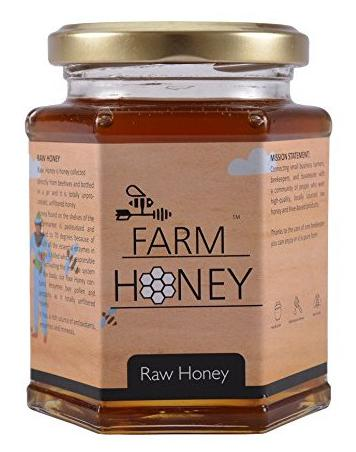JAR: (19, 17, 334, 437)
